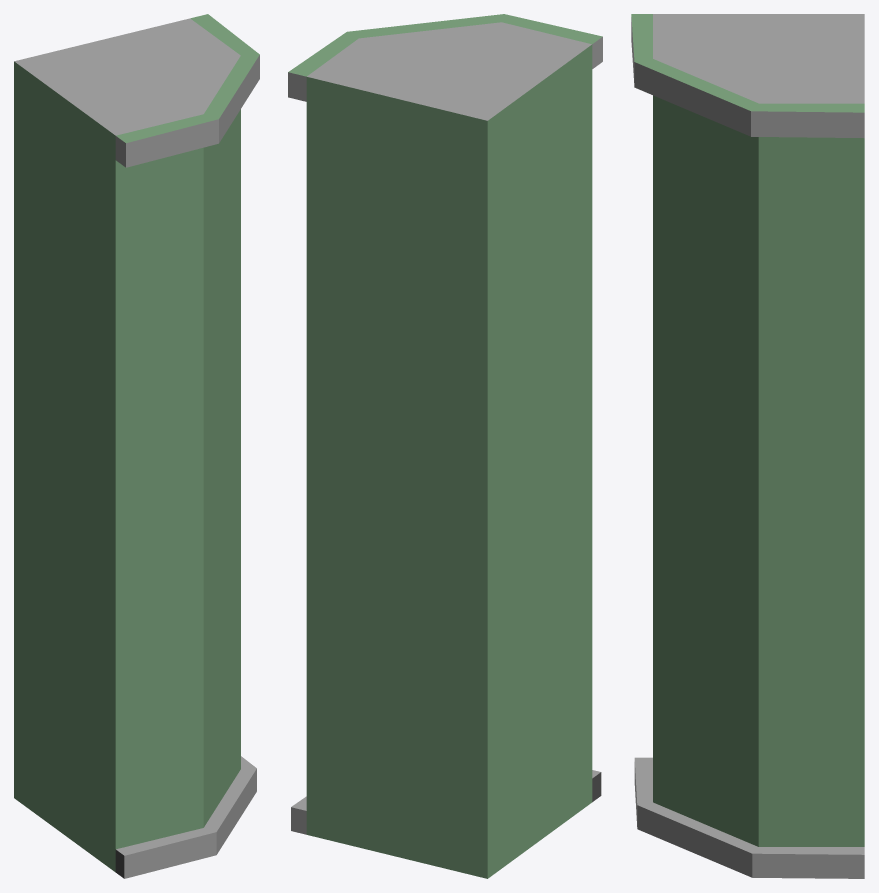
The model's file is Pillar.fbx.
The picture shows the model from 3 angles, left to right: view 1: azimuth 30°, elevation 25°; view 2: azimuth 150°, elevation 25°; view 3: azimuth 270°, elevation 25°; orthographic projection. The views are drawn at different scales.
Visible parts, largest first — view 1: Pillar; view 2: Pillar; view 3: Pillar.
Part boxes in pixels (box(x1,y1,x2,y2)): Pillar: box(14, 14, 259, 878); Pillar: box(288, 14, 602, 878); Pillar: box(631, 14, 864, 878).
Bounding box in the file's own units: 110 × 400 × 110.
